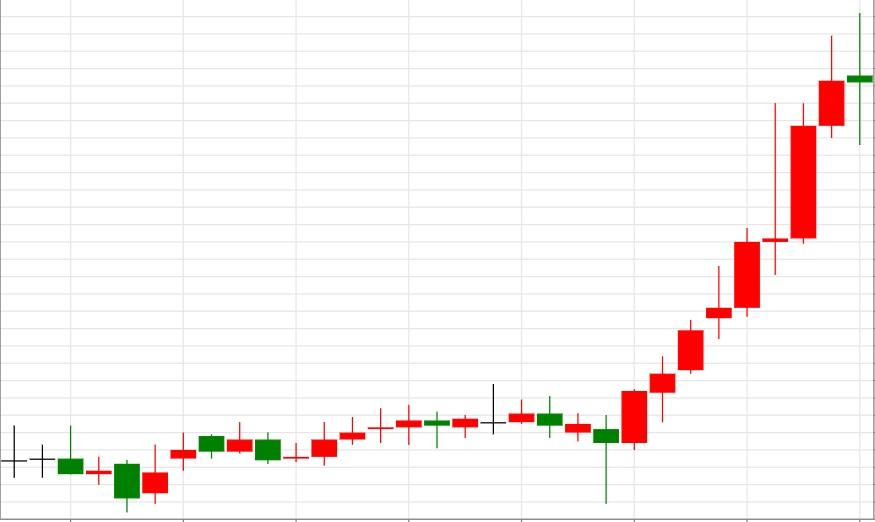three_white_soldiers_rise: (507, 317, 705, 503)
